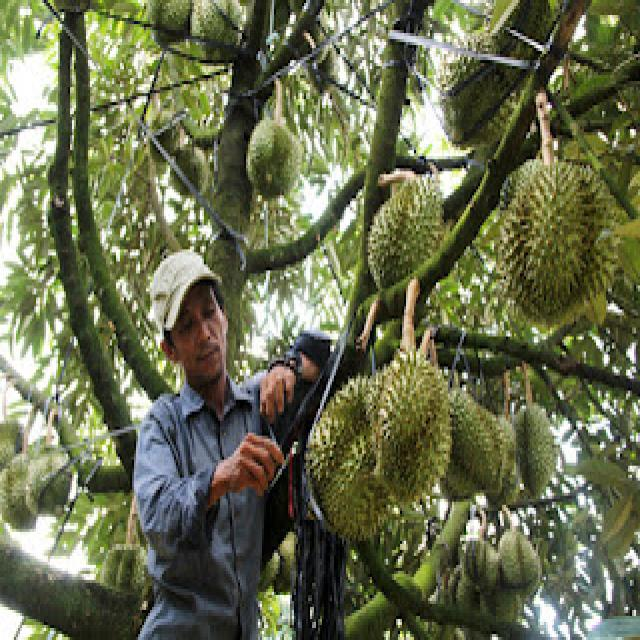Sau Rieng: (498, 156, 616, 319), (304, 367, 399, 530), (379, 343, 448, 509), (369, 172, 447, 286), (437, 33, 519, 141), (432, 373, 500, 497), (510, 402, 562, 497), (247, 114, 303, 198), (27, 444, 72, 514), (485, 398, 516, 496), (496, 526, 540, 589), (193, 0, 246, 51), (603, 230, 637, 302), (208, 232, 250, 288), (462, 535, 504, 589), (100, 541, 144, 592), (178, 142, 214, 198), (153, 105, 190, 159), (150, 0, 193, 39), (279, 529, 300, 594), (550, 520, 578, 568), (313, 39, 341, 87), (592, 0, 634, 30), (6, 487, 36, 529), (271, 210, 301, 250), (574, 505, 602, 547), (354, 607, 390, 637), (494, 589, 526, 622), (2, 429, 22, 472), (446, 568, 468, 607), (349, 553, 373, 586), (56, 324, 76, 354)
